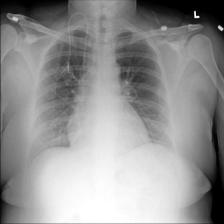normal: (23, 19, 178, 165)
